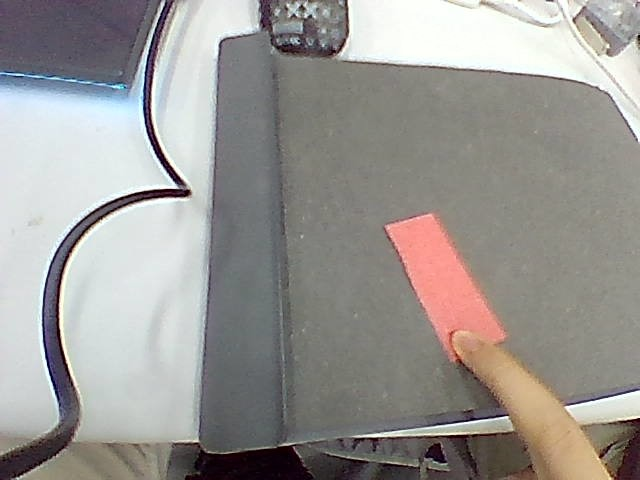card: (386, 214, 505, 360)
